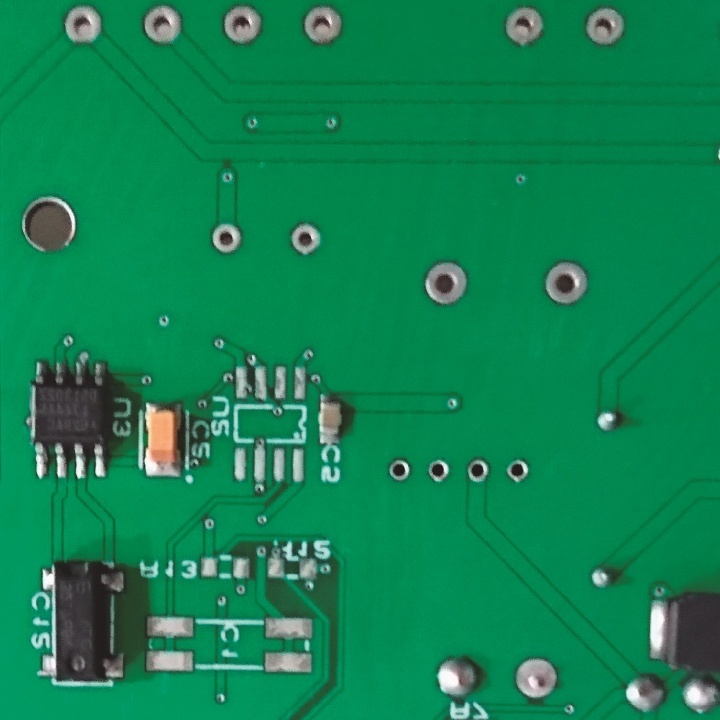F: (535, 259, 593, 309), (419, 257, 474, 309), (513, 653, 562, 703), (300, 5, 352, 48), (219, 3, 267, 49), (140, 3, 184, 53), (584, 1, 627, 47), (504, 1, 545, 48), (61, 5, 104, 49), (286, 220, 321, 260), (207, 222, 243, 257), (463, 455, 492, 485), (384, 454, 413, 483), (423, 457, 450, 486), (500, 458, 527, 486)
